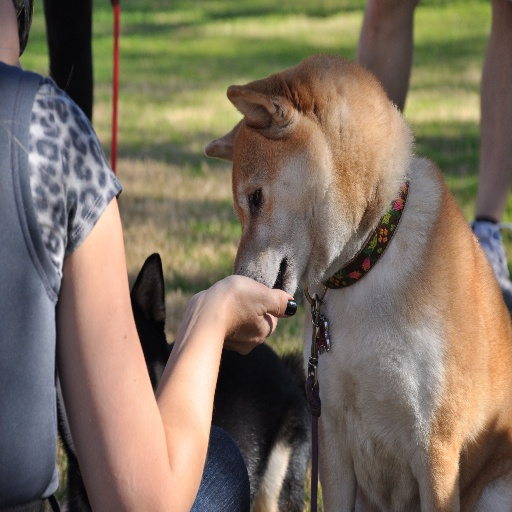hand: (165, 266, 297, 377)
